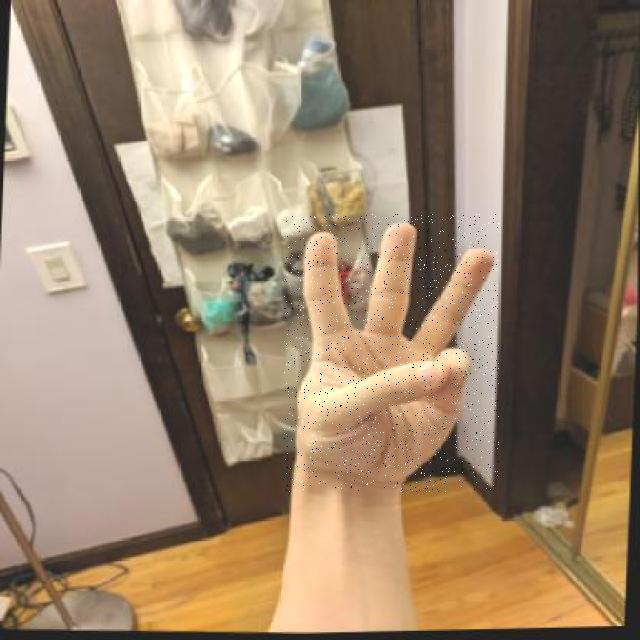W: (284, 214, 499, 492)
